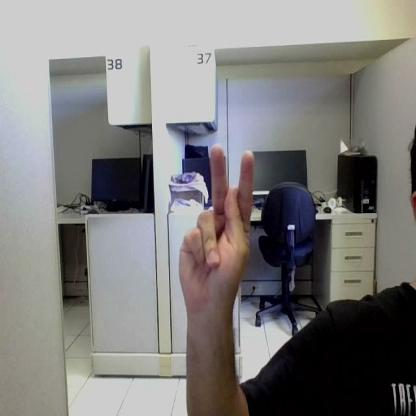K: (181, 146, 254, 314)
